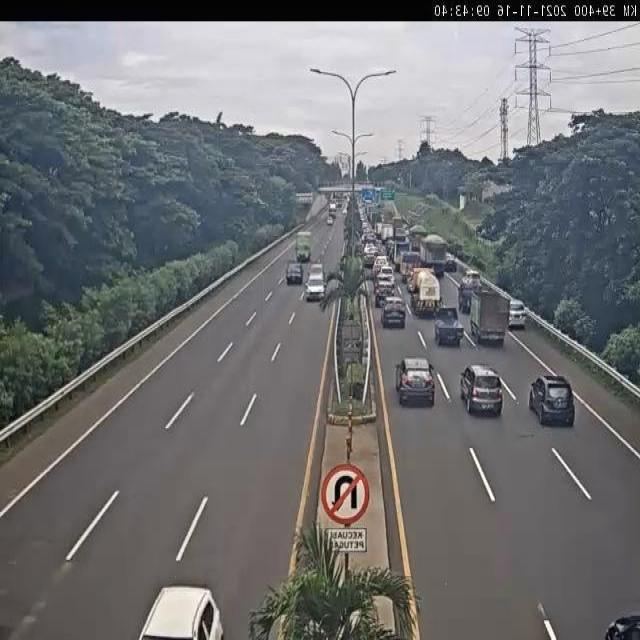Car: (528, 374, 574, 426), (460, 363, 504, 417), (397, 354, 438, 406), (381, 297, 407, 328), (375, 272, 396, 305), (509, 300, 529, 328), (460, 268, 484, 290), (286, 261, 304, 284), (378, 264, 394, 284), (444, 255, 458, 272), (327, 216, 334, 226)
Truck: (468, 287, 510, 348), (410, 270, 441, 318), (420, 234, 448, 279), (434, 308, 464, 347), (399, 250, 422, 282), (295, 232, 312, 264)
Van: (306, 265, 326, 302)
